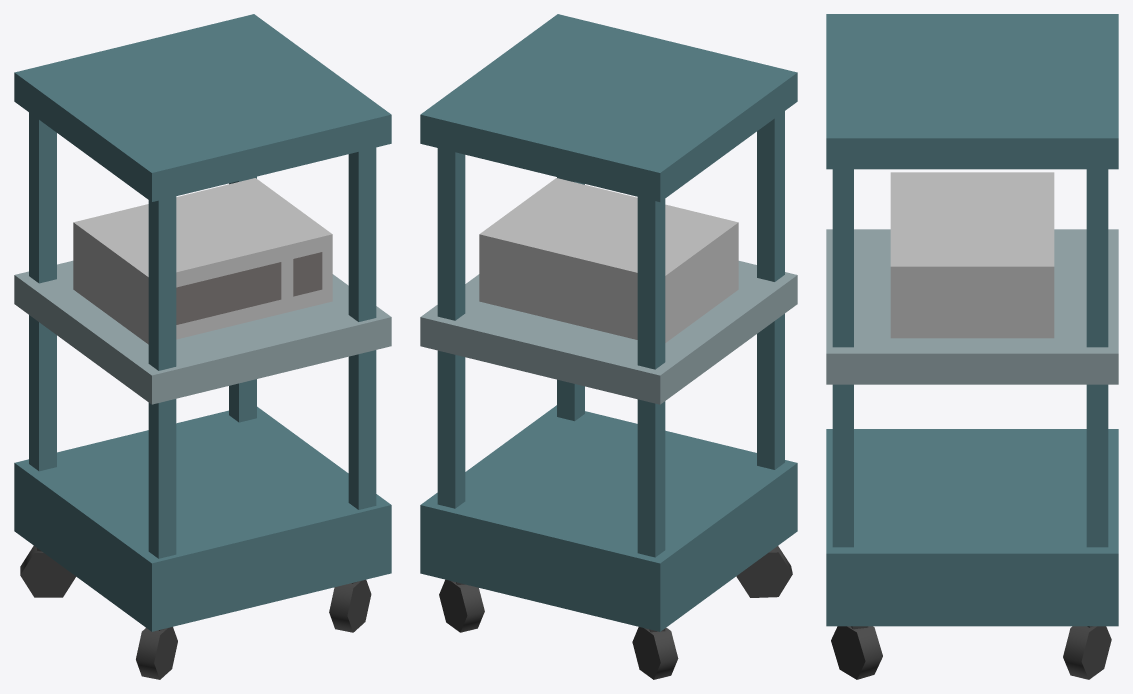
Rendered from SM_Shelf_D1_Empty.fbx.
3 renders of one model, left to right at view 1: azimuth 30°, elevation 25°; view 2: azimuth 150°, elevation 25°; view 3: azimuth 270°, elevation 25°, orthographic. The views are drawn at different scales.
Visible parts, largest first — view 1: SM_Shelf_D1_Empty; view 2: SM_Shelf_D1_Empty; view 3: SM_Shelf_D1_Empty.
Boxes of the visible parts, x1=… form: SM_Shelf_D1_Empty: x1=14, y1=14, x2=391, y2=679; SM_Shelf_D1_Empty: x1=420, y1=14, x2=797, y2=679; SM_Shelf_D1_Empty: x1=826, y1=14, x2=1118, y2=679.
Size of the model in its own units: 73.84 by 148 by 71.46.
1 material, 1 textured.
